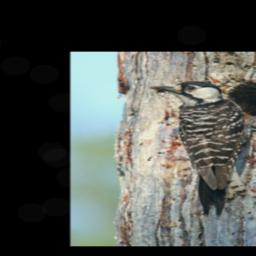Woodpecker: (147, 81, 256, 221)
